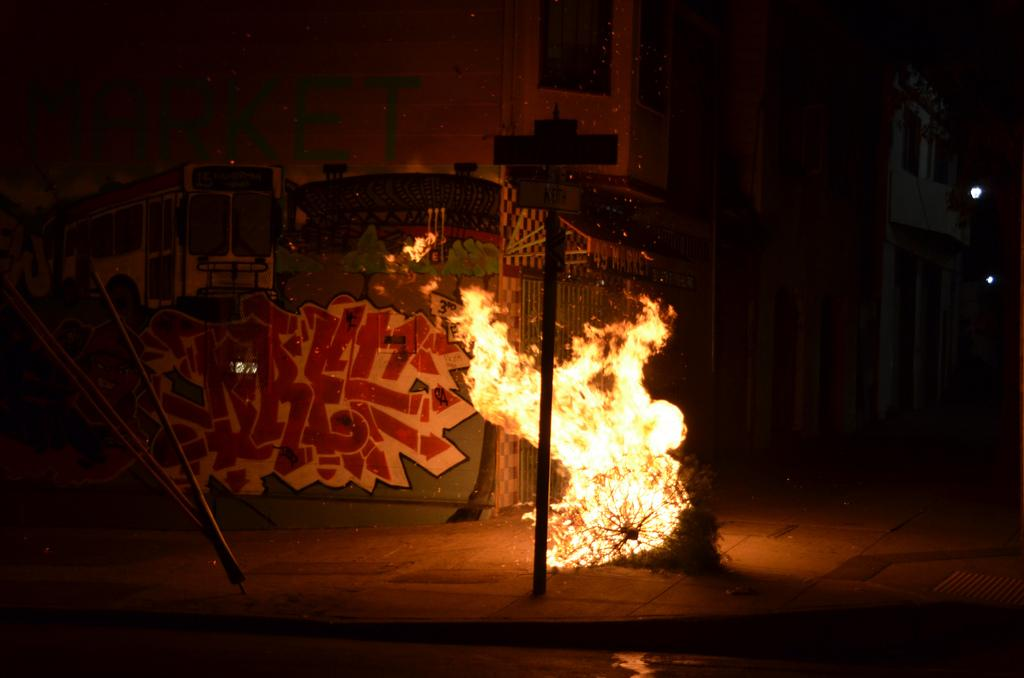fire: (557, 335, 680, 547), (458, 313, 538, 435)
